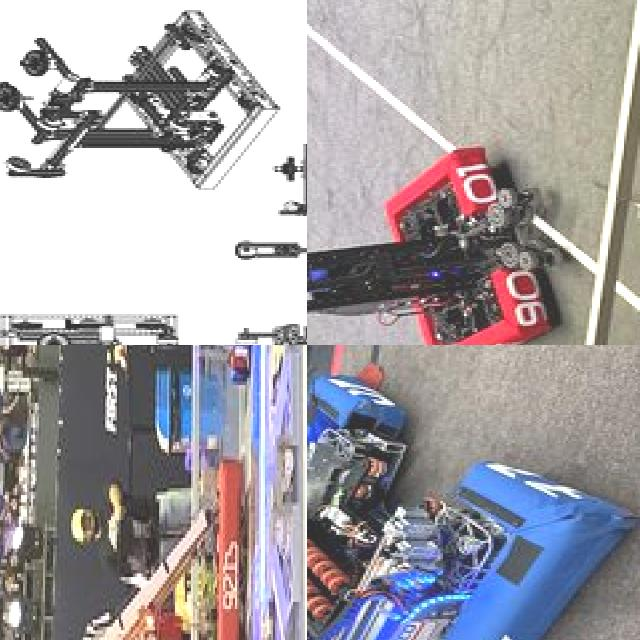FRC-Robots: (307, 364, 639, 640), (0, 0, 296, 197), (307, 131, 561, 345), (49, 461, 244, 640), (40, 345, 270, 385)
